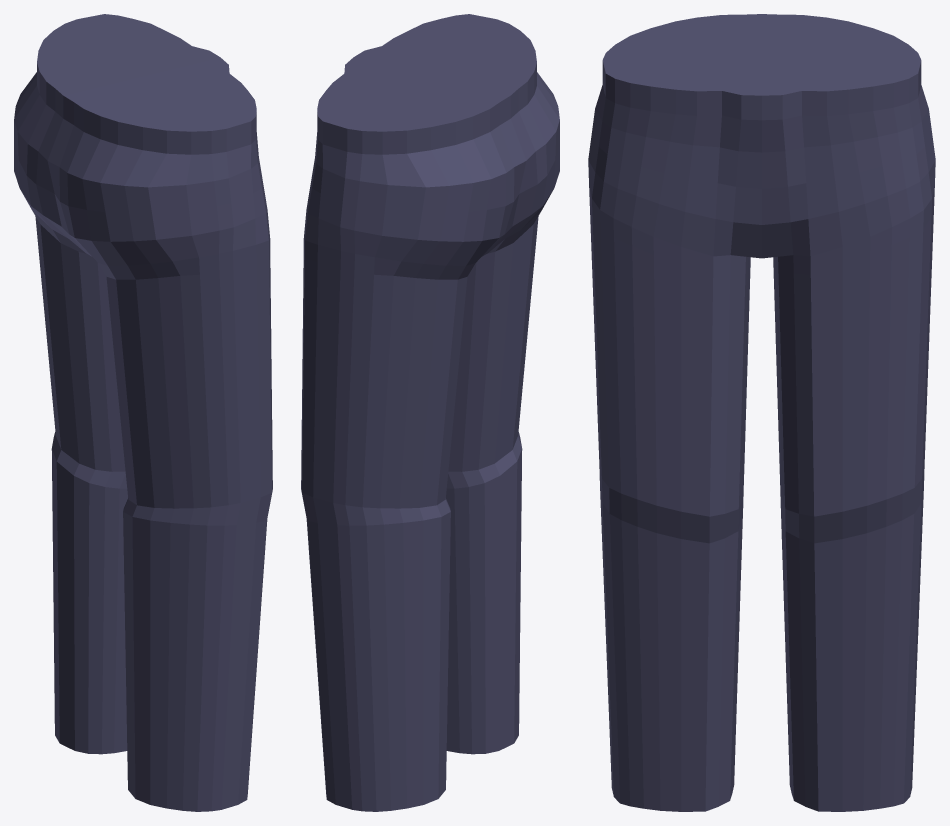
File: pants.fbx
3 views of the same model, side by side, from view 1: azimuth 30°, elevation 25°; view 2: azimuth 150°, elevation 25°; view 3: azimuth 270°, elevation 25° (orthographic). The views are drawn at different scales.
Parts seen in each view (by area): view 1: Cylinder; view 2: Cylinder; view 3: Cylinder.
Part boxes in pixels (<box>): Cylinder: <box>14,14,272,811</box>; Cylinder: <box>301,14,559,811</box>; Cylinder: <box>588,14,935,811</box>.
Size of the model in its own units: 29.24 by 111 by 47.78.
